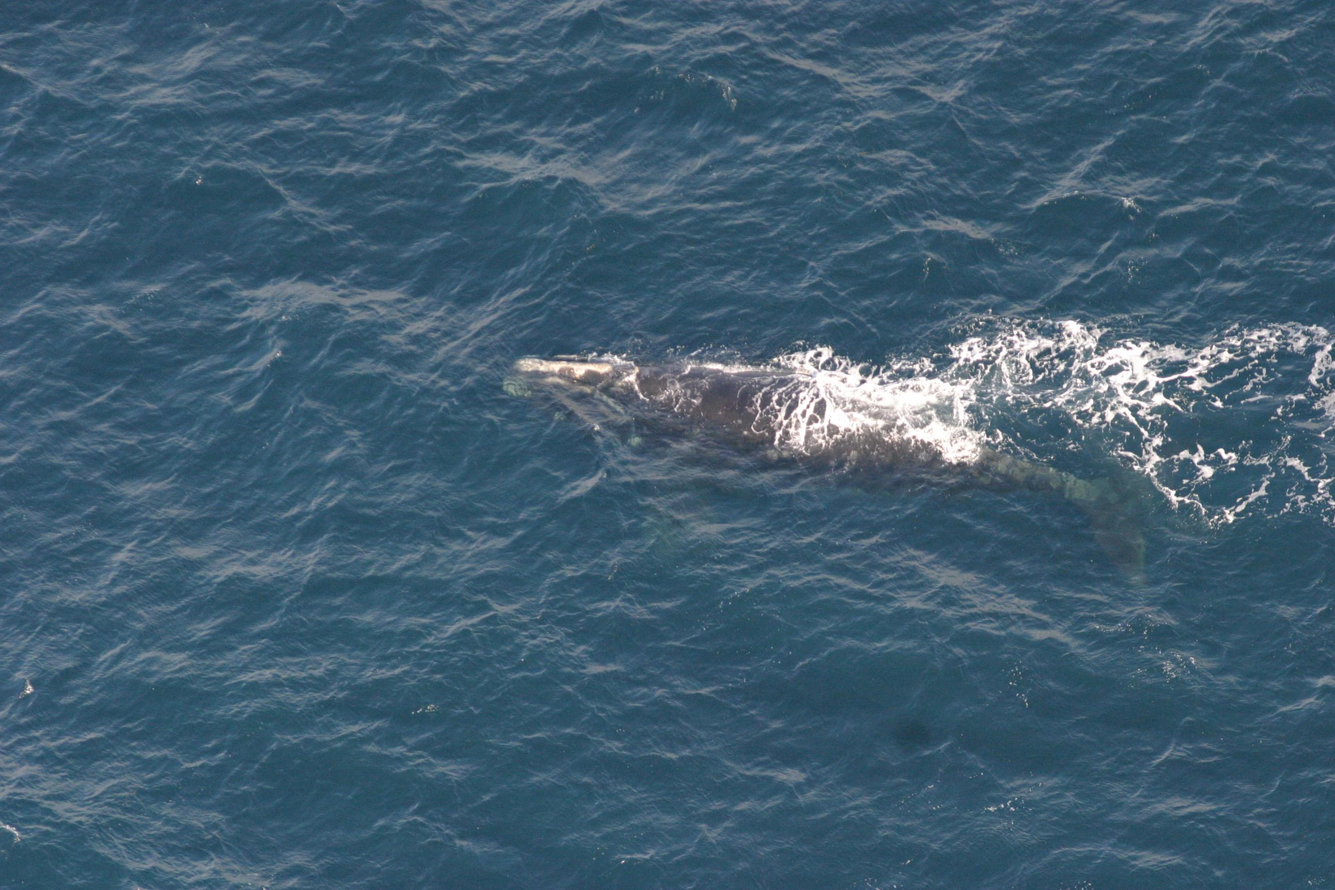whale: (496, 327, 1219, 602)
